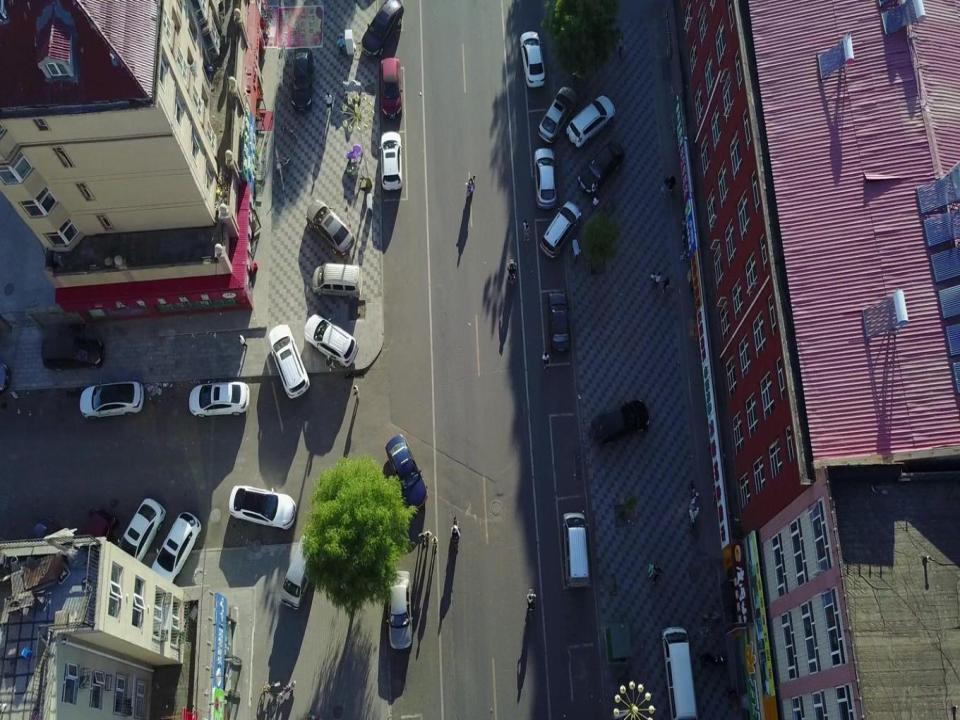car: (147, 510, 202, 589), (112, 498, 165, 575), (384, 434, 428, 510), (268, 324, 308, 400), (303, 313, 358, 367), (230, 485, 297, 529), (68, 507, 118, 563), (304, 200, 354, 255), (591, 400, 649, 447), (79, 379, 143, 419), (577, 141, 625, 194), (566, 95, 614, 148), (361, 0, 403, 56), (385, 570, 413, 648), (538, 86, 574, 144), (19, 516, 59, 564), (532, 149, 558, 209), (519, 31, 545, 87), (378, 131, 403, 189), (548, 290, 570, 354), (381, 56, 403, 120), (291, 46, 313, 110)
van: (660, 627, 695, 718), (278, 535, 320, 609), (279, 536, 320, 610), (539, 200, 581, 260), (561, 510, 590, 588), (41, 338, 104, 371), (312, 262, 363, 298)
